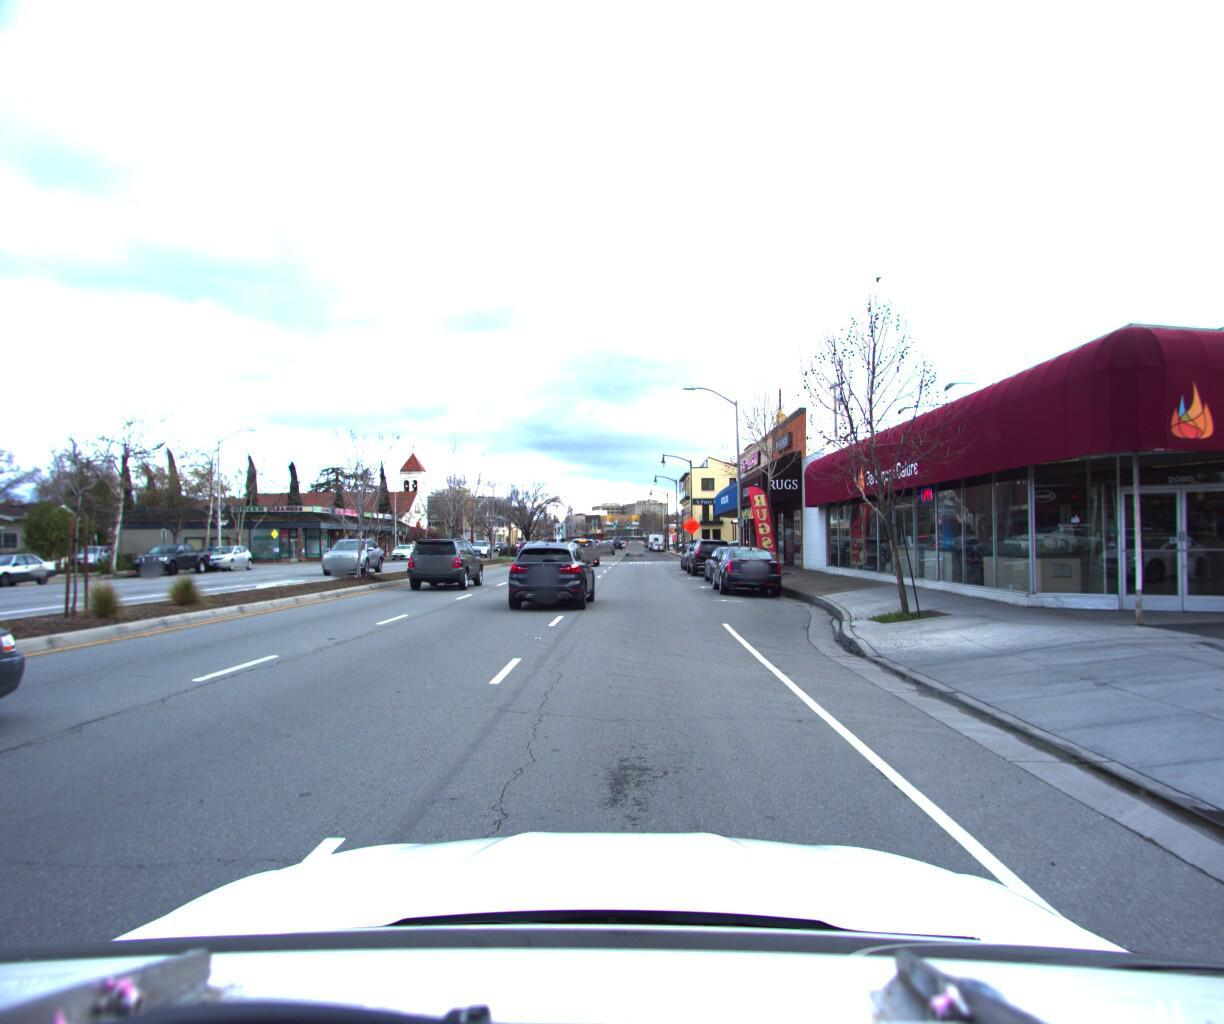car: (0, 543, 67, 1024), (506, 528, 598, 606), (705, 534, 787, 595), (403, 532, 484, 589), (126, 538, 215, 573), (698, 536, 760, 580), (320, 531, 385, 570), (0, 549, 64, 589), (683, 530, 732, 571), (192, 539, 257, 567), (567, 531, 598, 560), (392, 537, 424, 554), (469, 536, 496, 554), (627, 536, 644, 550)
